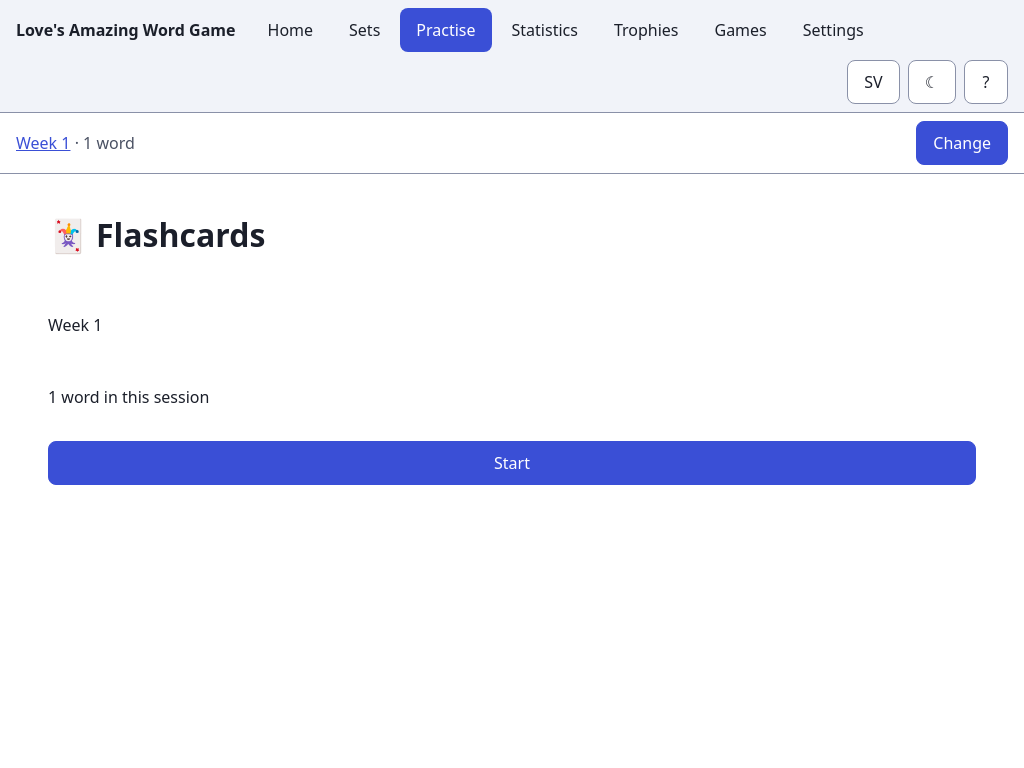
Test case: pronunciation › NH-2: hides the speaker button for a set without a voice language
Click the button "Start".
click(512, 463)  # box [48, 441, 976, 485]
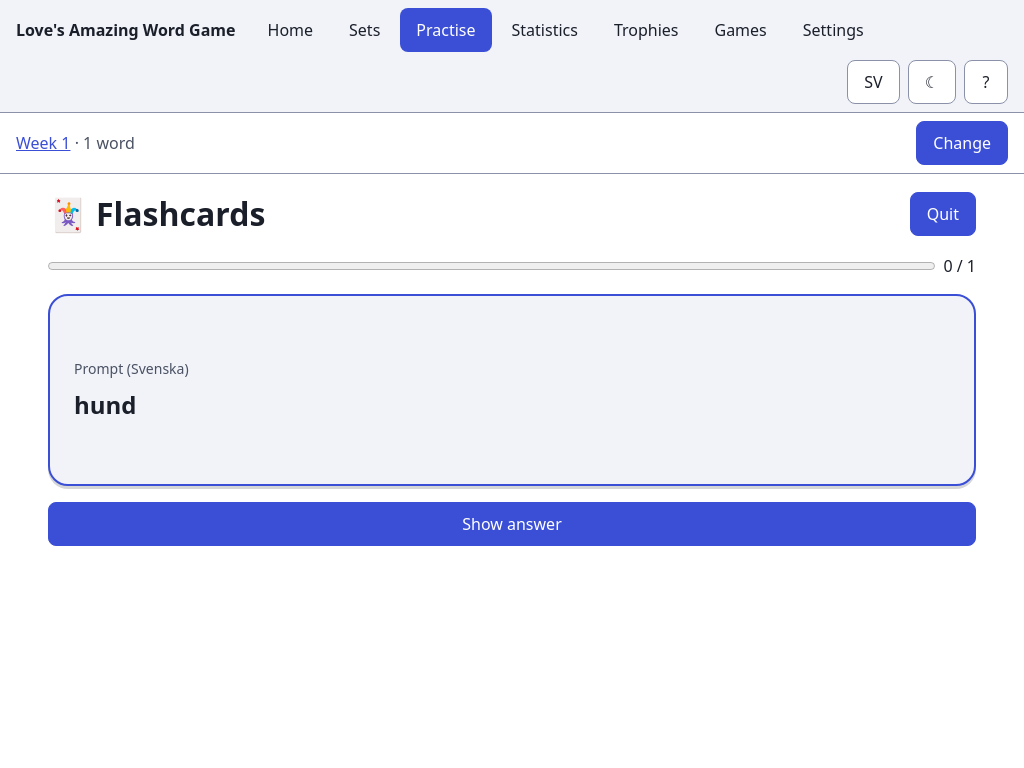
Check: the button "Show answer" is shown, box [48, 502, 976, 546]
